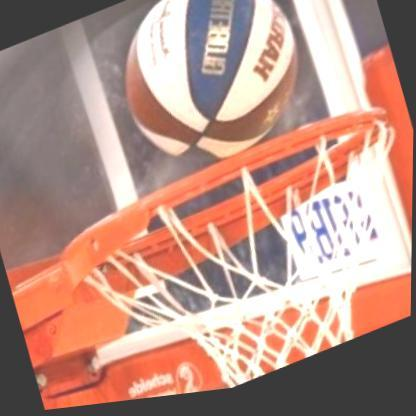basketball: (94, 0, 324, 204)
